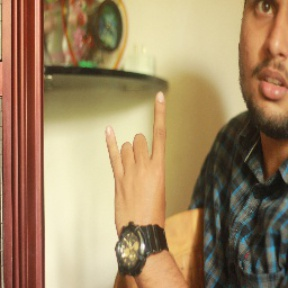V: (102, 87, 175, 240)
